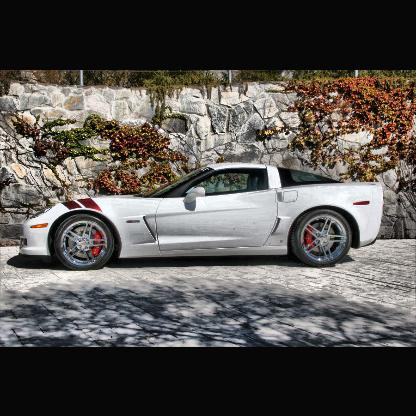Chevrolet Corvette Ron Fellows Edition Z06 2007: (20, 160, 386, 268)
